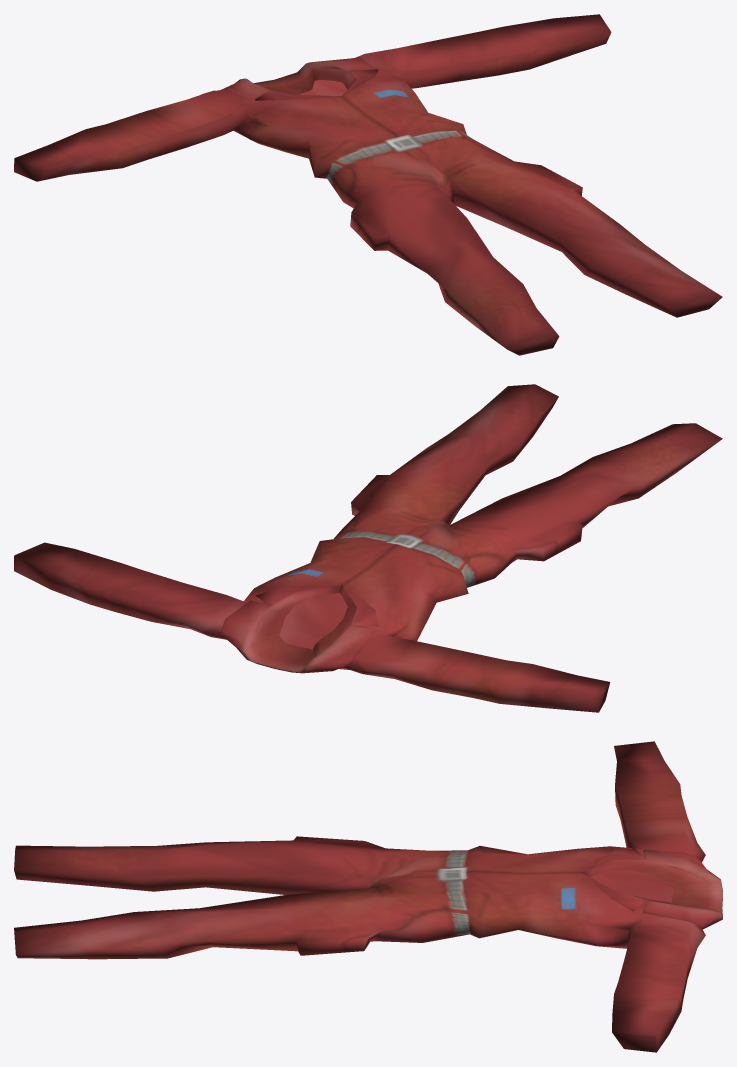
The model's file is KOMB_Ground.fbx.
The picture shows the model from 3 angles, top to bottom: view 1: azimuth 30°, elevation 25°; view 2: azimuth 150°, elevation 25°; view 3: azimuth 270°, elevation 25°; orthographic projection. The views are drawn at different scales.
Visible parts, largest first — view 1: Body; view 2: Body; view 3: Body.
Boxes of the visible parts, x1,y1,x2,y2 form: Body: (14, 14, 722, 355); Body: (14, 384, 722, 712); Body: (14, 741, 722, 1052).
Bounding box in the file's own units: 0.7484 × 0.0504 × 0.7571.
